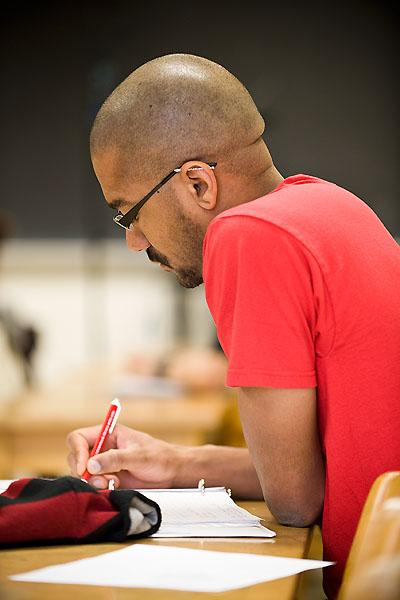person: (65, 54, 400, 594)
